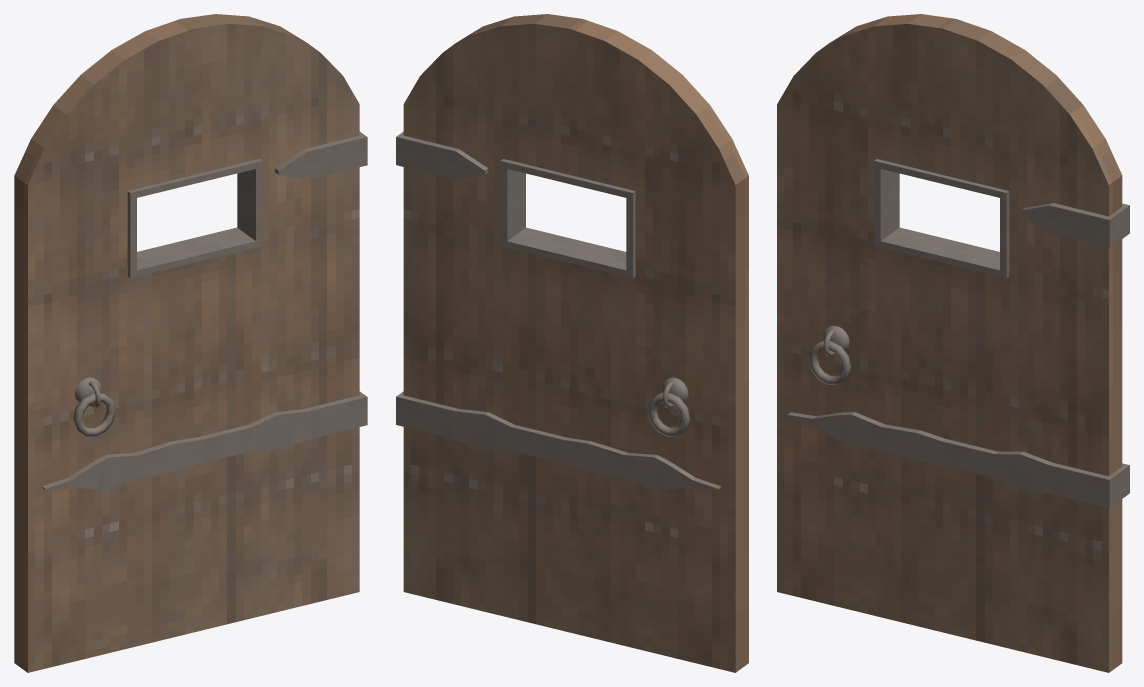
Rendered from door_windowed.gltf.
3 views of the same model, side by side, from view 1: azimuth 30°, elevation 25°; view 2: azimuth 150°, elevation 25°; view 3: azimuth 330°, elevation 25° (orthographic).
Visible parts, largest first — view 1: Door.002; view 2: Door.002; view 3: Door.002.
Boxes of the visible parts, box(x1,y1,x2,y2) form: Door.002: box(14, 14, 367, 672); Door.002: box(396, 14, 748, 672); Door.002: box(777, 14, 1129, 672).
Size of the model in its own units: 1.35 by 2.32 by 0.261.
Materials: 1 (1 with a texture image).
